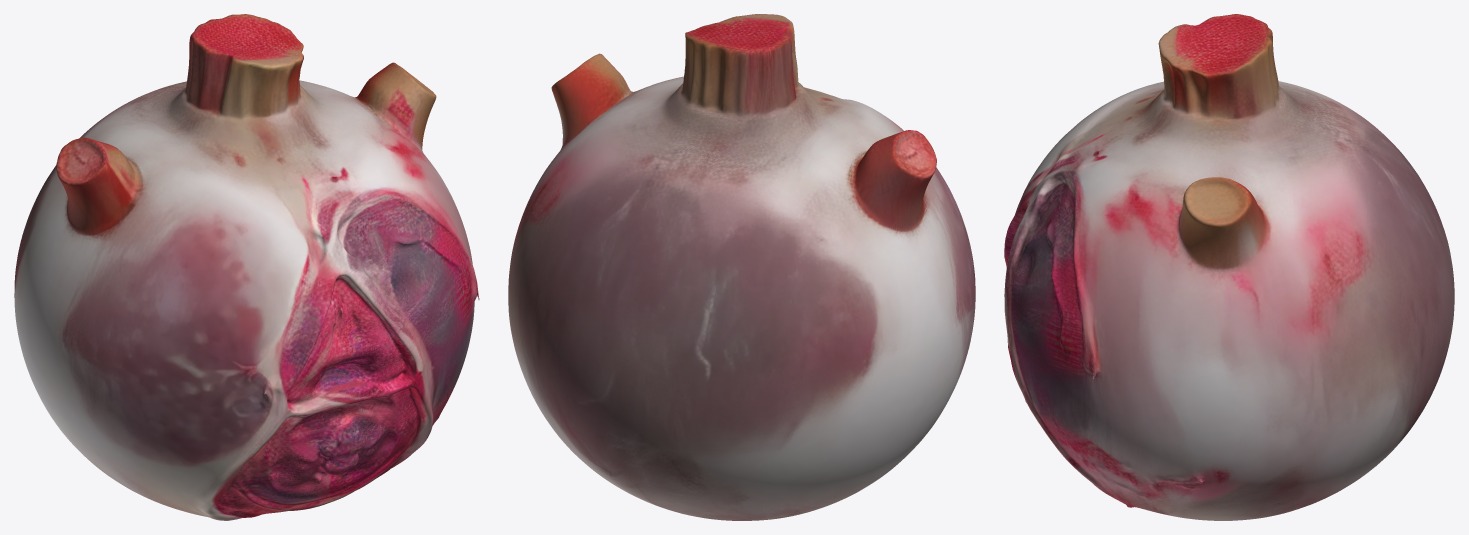
The model's file is vet_v2_path_mastitis-udder.glb.
3 renders of one model, left to right at view 1: azimuth 30°, elevation 25°; view 2: azimuth 150°, elevation 25°; view 3: azimuth 270°, elevation 25°, orthographic.
Visible parts, largest first — view 1: model; view 2: model; view 3: model.
Boxes of the visible parts, left/top/right/bottom form: model: left=14, top=14, right=479, bottom=520; model: left=508, top=14, right=975, bottom=520; model: left=1004, top=14, right=1454, bottom=520.
Bounding box in the file's own units: 1.73 × 1.9 × 1.69.
1 material, 1 textured.
